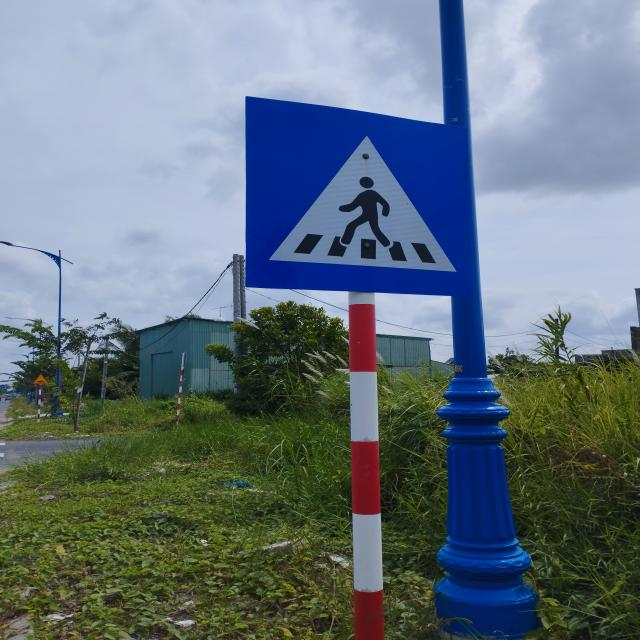Giao_Nhau_Duong_Uu_Tien: (246, 96, 471, 296)
